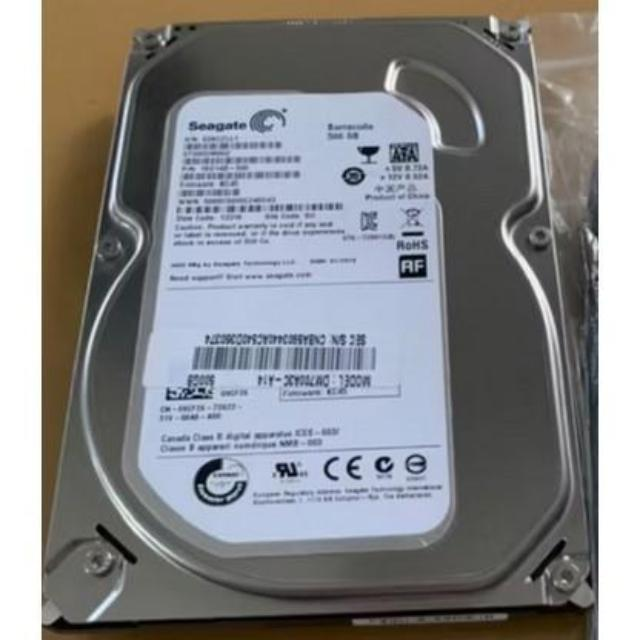DISK: (48, 7, 597, 638)
